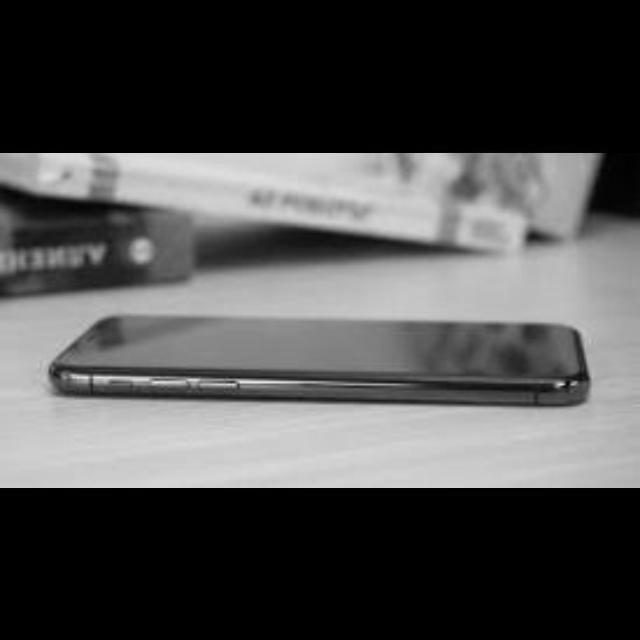fake: (54, 266, 622, 448)
